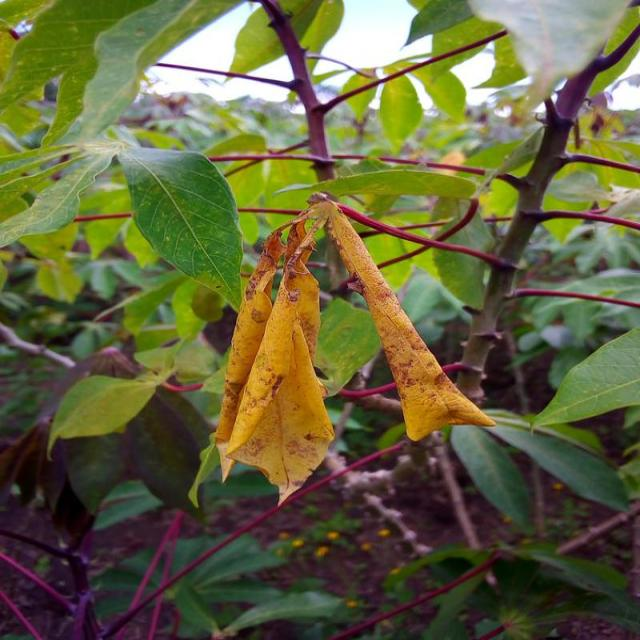cassava leaf: (306, 191, 497, 443), (214, 218, 335, 508), (118, 145, 244, 314), (529, 324, 639, 430)
